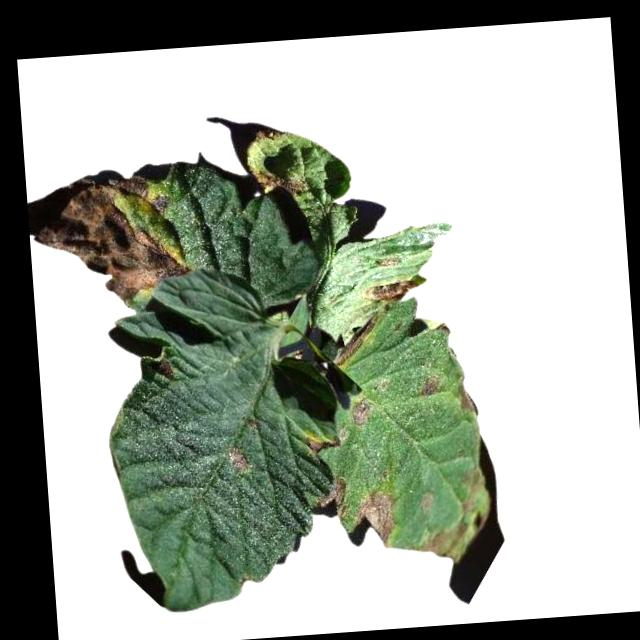Early_blight: (29, 172, 195, 308), (357, 487, 400, 549), (332, 316, 380, 368), (252, 163, 309, 197), (315, 472, 350, 522), (364, 274, 421, 304), (455, 380, 478, 416), (225, 443, 250, 473), (348, 399, 371, 425), (308, 433, 337, 452), (419, 374, 440, 397), (155, 355, 174, 379), (255, 128, 285, 143)
